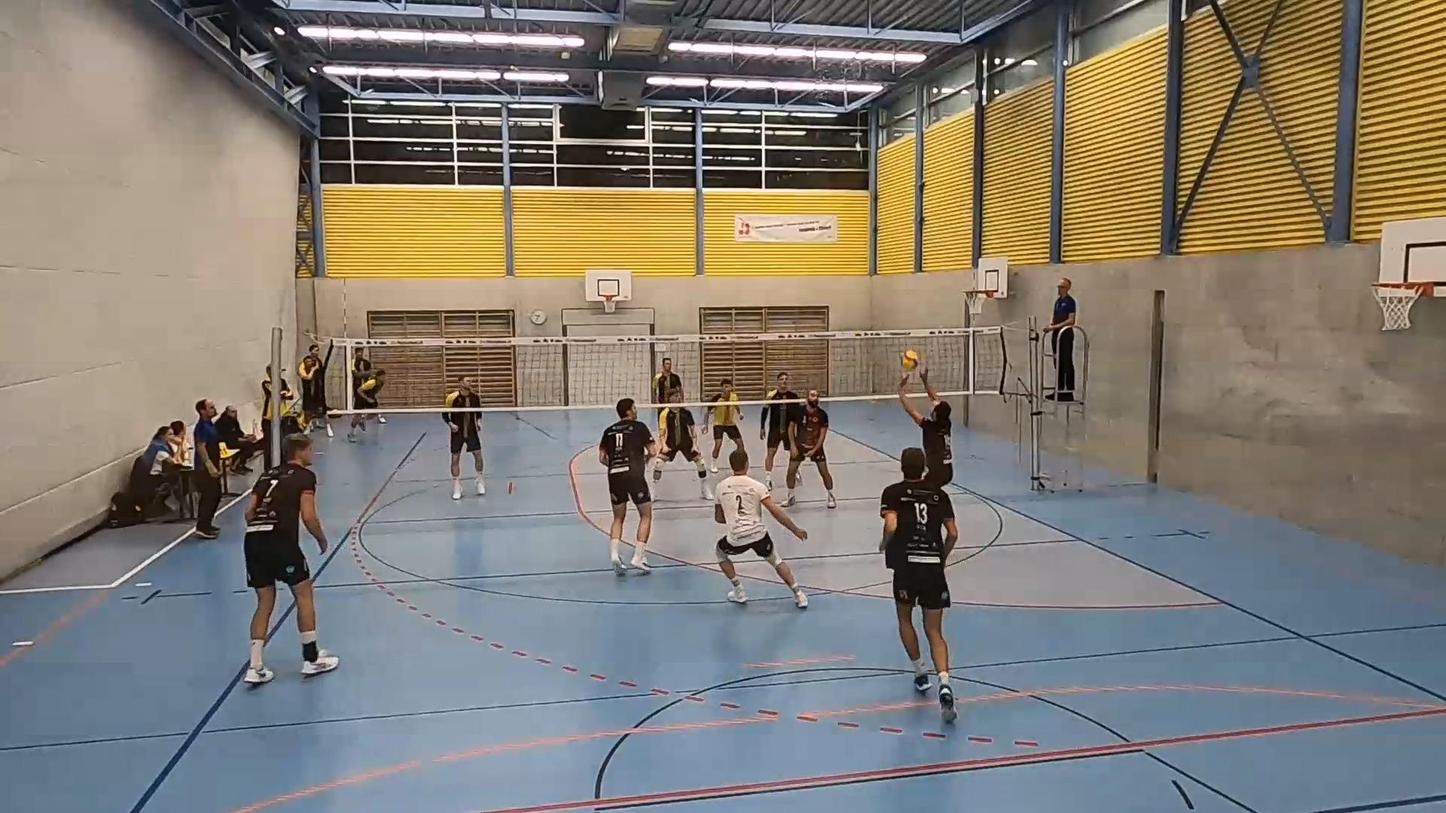Player: (243, 434, 338, 684), (880, 448, 957, 721), (715, 448, 807, 608), (598, 398, 654, 575), (653, 391, 712, 500), (783, 389, 836, 508), (443, 378, 485, 499), (760, 372, 799, 489), (708, 378, 743, 473), (650, 358, 682, 431)
Set: (895, 374, 960, 492)
ball: (898, 352, 921, 366)
